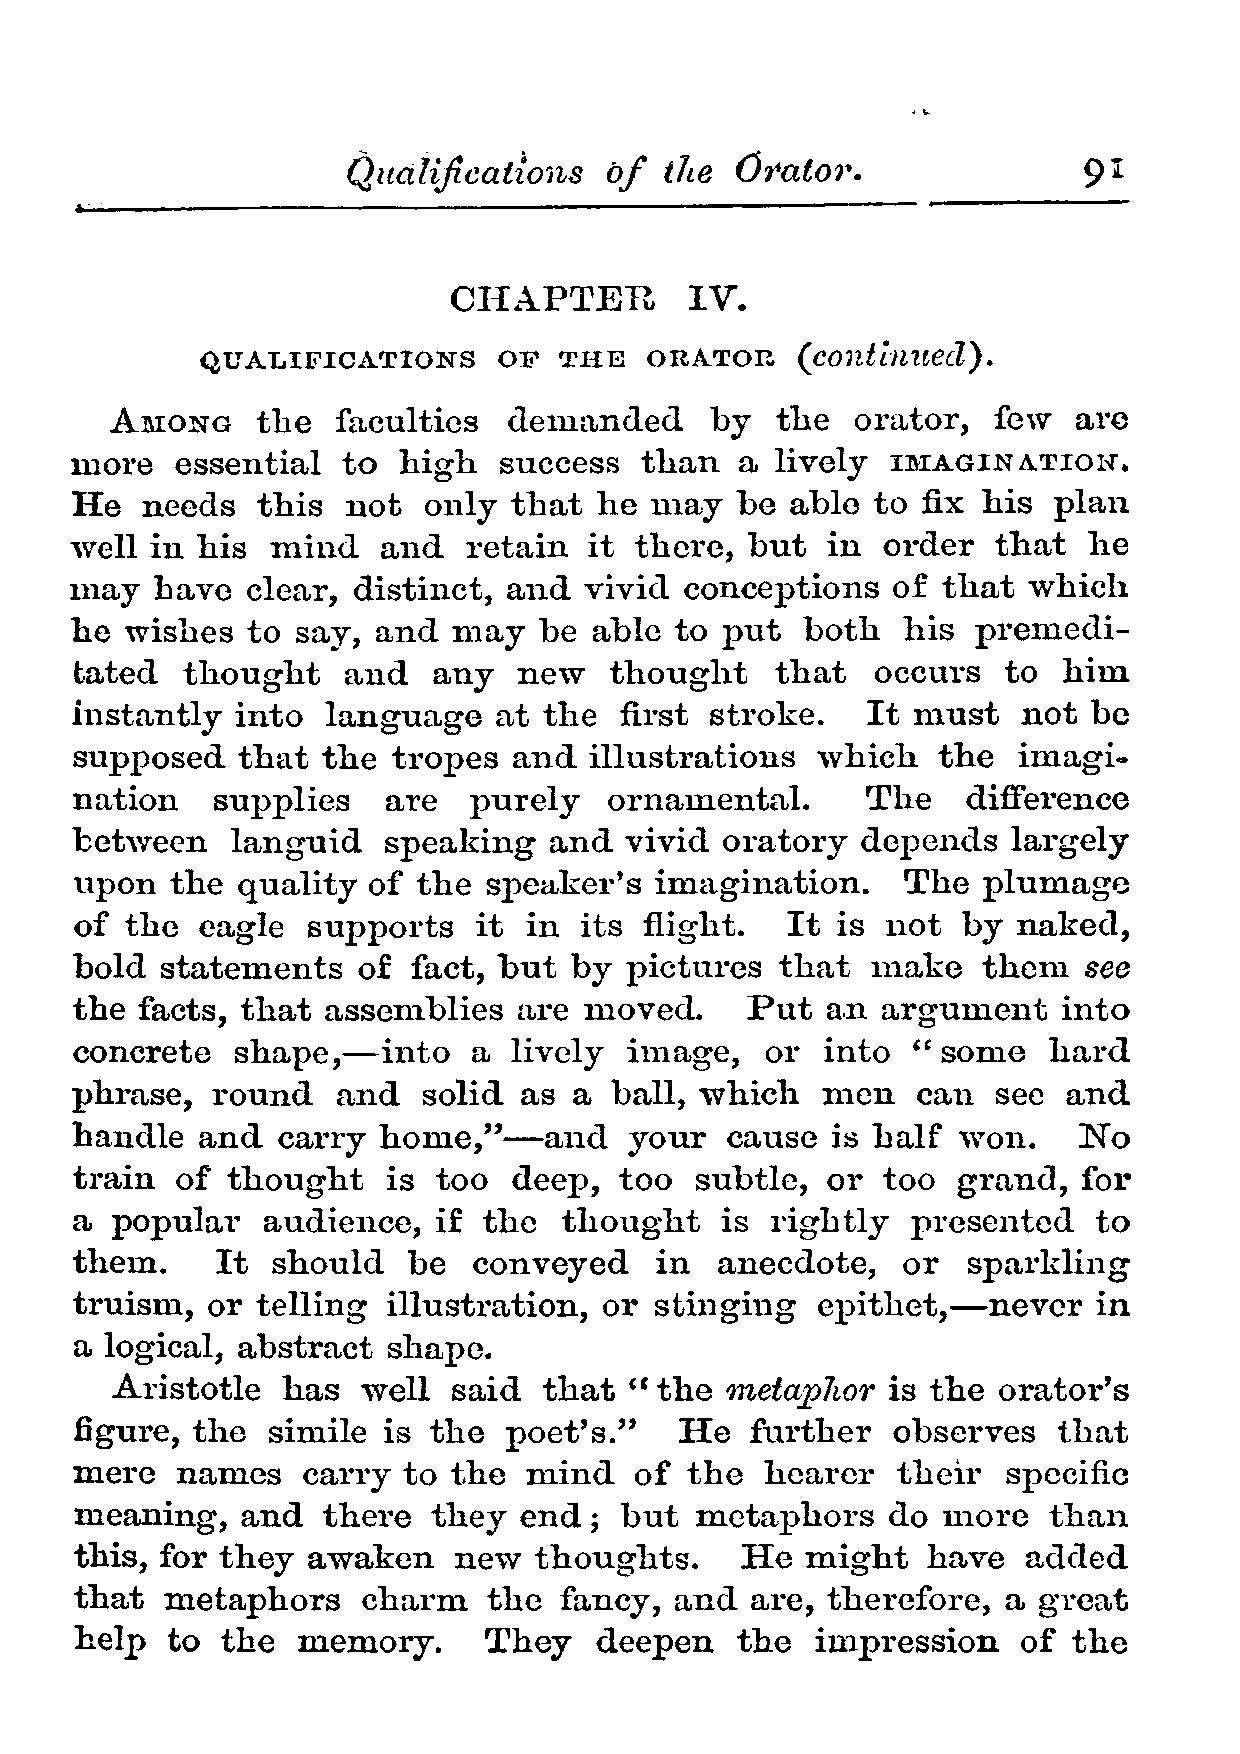chapter: (196, 282, 993, 378), (344, 152, 859, 195)
content: (67, 405, 1134, 1660)
content_pagenumber: (1082, 153, 1122, 191)
